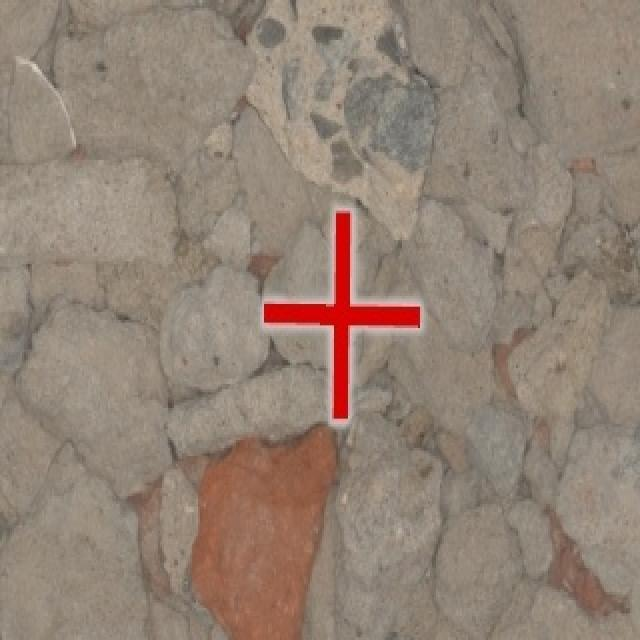x_marker: (263, 209, 419, 420)
